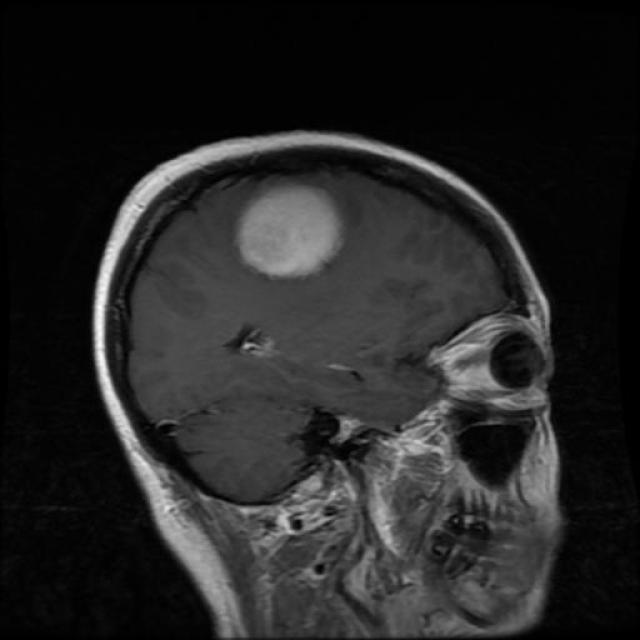meningioma: (238, 182, 341, 279)
